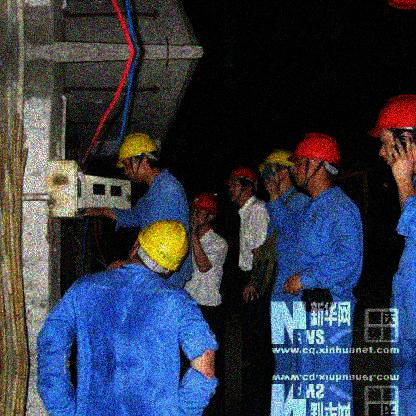helmet: (128, 218, 192, 275), (368, 92, 415, 169), (288, 133, 342, 188), (115, 132, 160, 186), (259, 148, 296, 190), (223, 166, 260, 201), (191, 192, 219, 228)
